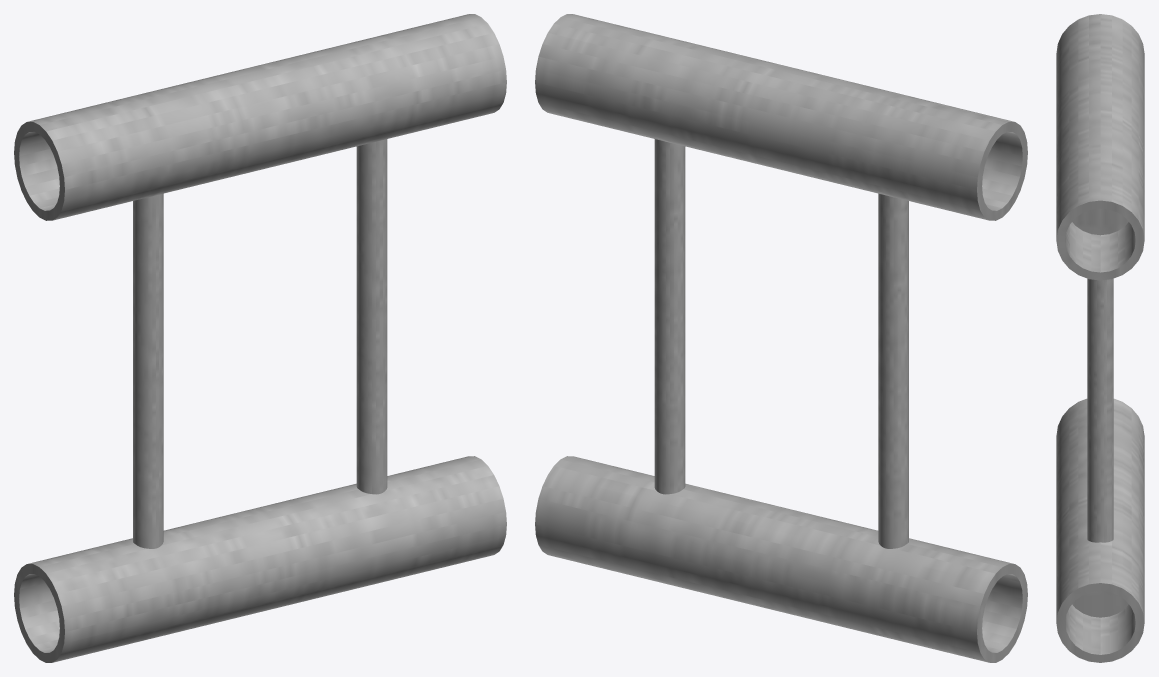
The model's file is Milos_M290V_250_Duo_Truss_Section-0718ece6.glb.
3 renders of one model, left to right at view 1: azimuth 30°, elevation 25°; view 2: azimuth 150°, elevation 25°; view 3: azimuth 270°, elevation 25°, orthographic. The views are drawn at different scales.
Parts seen in each view (by area): view 1: Geom3D (×3); view 2: Geom3D (×3); view 3: Geom3D (×2).
Boxes of the visible parts, x1=… form: Geom3D (×3): x1=14, y1=14, x2=506, y2=662; Geom3D (×3): x1=535, y1=14, x2=1027, y2=662; Geom3D (×2): x1=1056, y1=14, x2=1144, y2=662.
Bounding box in the file's own units: 0.25 × 0.289 × 0.05.
Materials: 1 (1 with a texture image).
